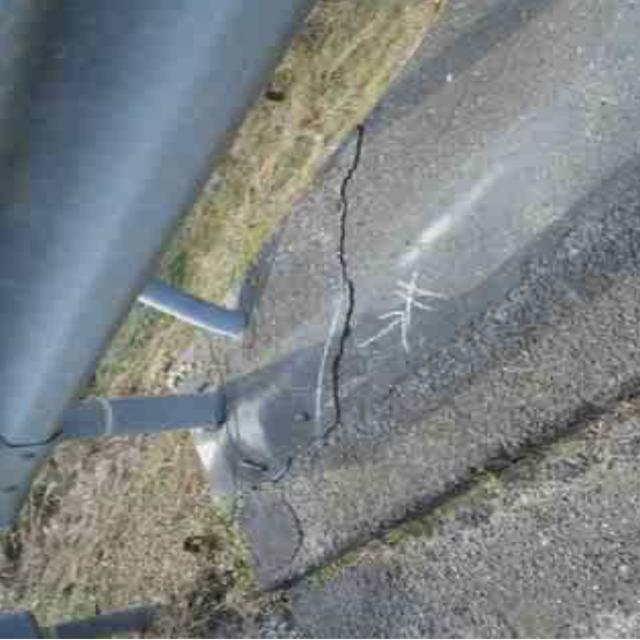crack: (296, 140, 374, 456)
